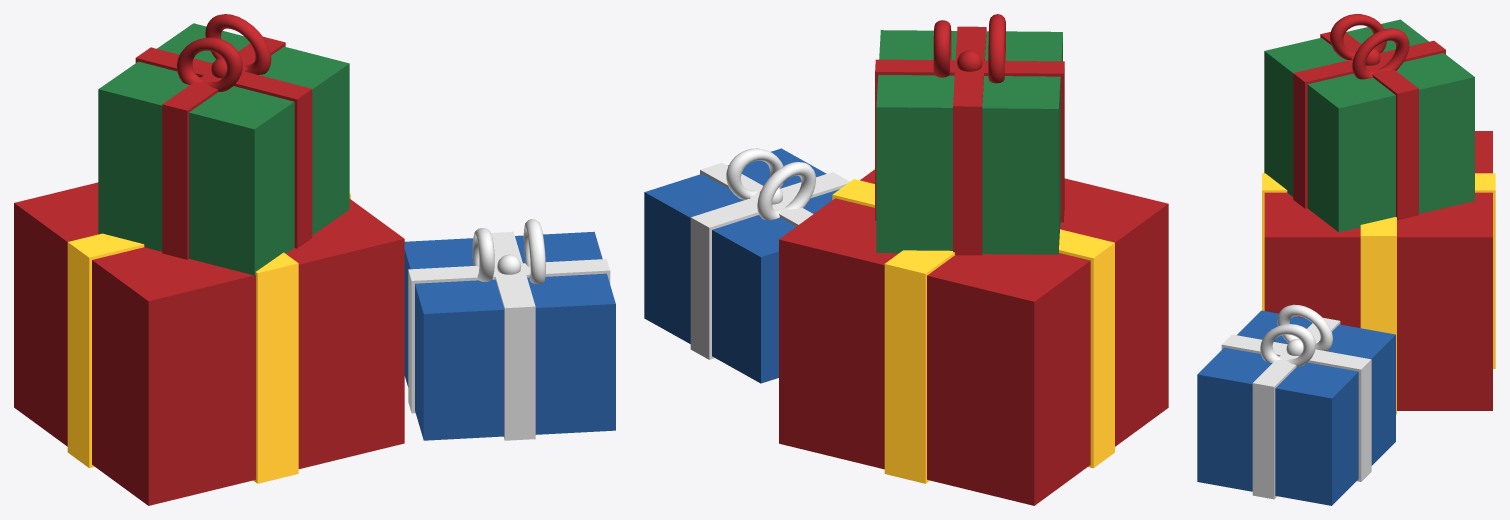
File: presents.glb
3 views of the same model, side by side, from view 1: azimuth 30°, elevation 25°; view 2: azimuth 150°, elevation 25°; view 3: azimuth 270°, elevation 25° (orthographic). The views are drawn at different scales.
Visible parts, largest first — view 1: presents; view 2: presents; view 3: presents.
Boxes of the visible parts, left/top/right/bottom form: presents: left=14, top=14, right=615, bottom=505; presents: left=644, top=14, right=1168, bottom=505; presents: left=1197, top=14, right=1495, bottom=505.
Bounding box in the file's own units: 1.05 × 0.8263 × 0.6535.
